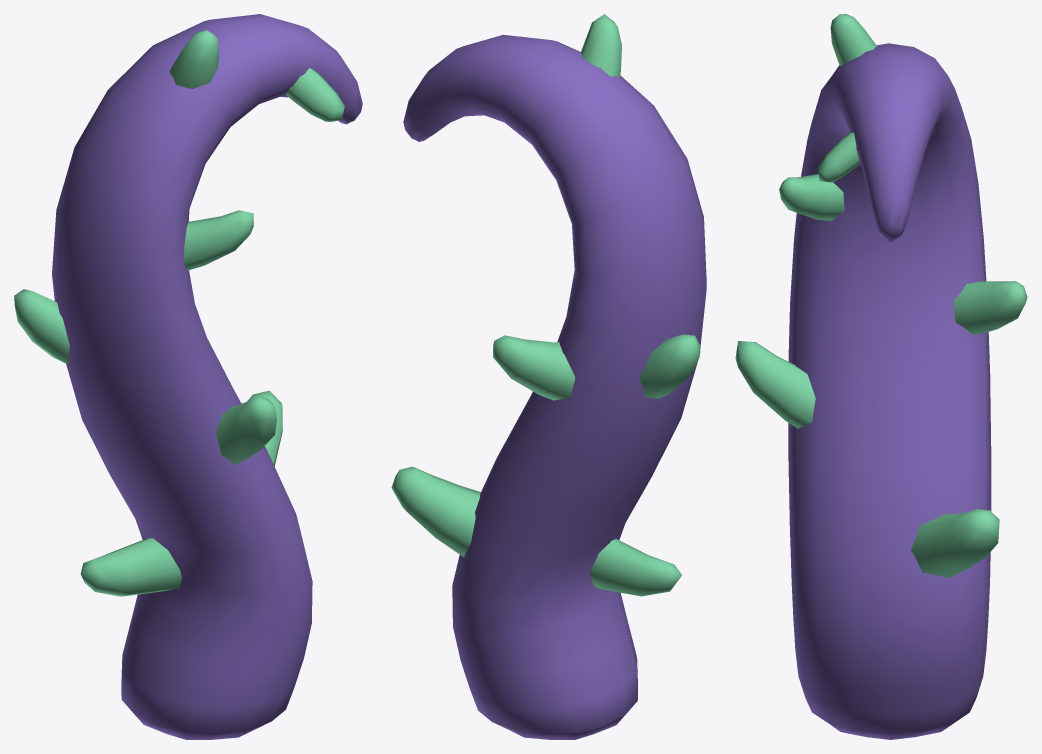
The model's file is Vine_A_02.fbx.
The picture shows the model from 3 angles, left to right: view 1: azimuth 30°, elevation 25°; view 2: azimuth 150°, elevation 25°; view 3: azimuth 270°, elevation 25°; orthographic projection. The views are drawn at different scales.
Visible parts, largest first — view 1: Vine_A_02_LOD0; view 2: Vine_A_02_LOD0; view 3: Vine_A_02_LOD0.
Part boxes in pixels (x1,y1,x2,y2): Vine_A_02_LOD0: (14, 14, 362, 739); Vine_A_02_LOD0: (391, 14, 706, 739); Vine_A_02_LOD0: (735, 14, 1027, 739).
Size of what is drawn, in the model's own units: 295 by 625 by 238.
